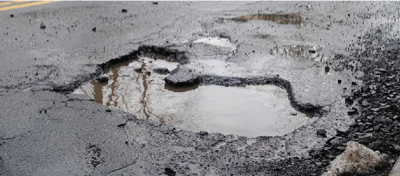pothole: (52, 43, 324, 139), (226, 11, 302, 26), (194, 33, 239, 52)
